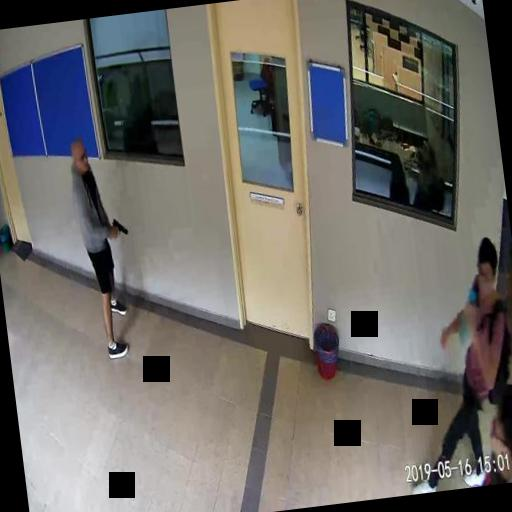Handgun: (108, 214, 130, 238)
